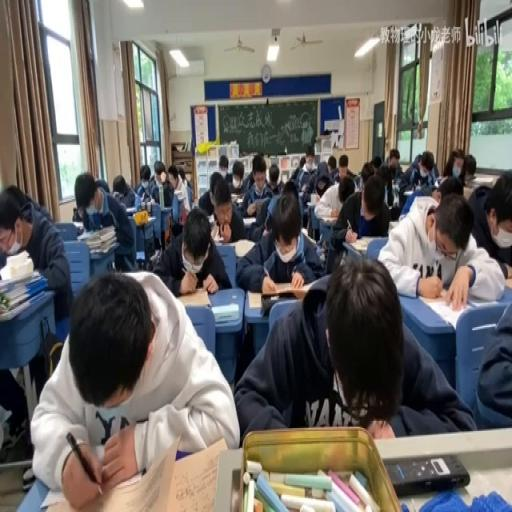calculator: (416, 290, 493, 329), (246, 283, 312, 310), (177, 286, 211, 307), (210, 300, 238, 322), (232, 236, 255, 256), (347, 234, 375, 250), (300, 228, 318, 250), (90, 244, 116, 258), (76, 230, 96, 240), (472, 175, 494, 183), (230, 193, 244, 205), (241, 214, 256, 224), (352, 174, 362, 189), (320, 215, 338, 223), (71, 220, 83, 232), (309, 192, 319, 205), (299, 182, 309, 195), (125, 205, 136, 213), (506, 276, 512, 290), (404, 186, 414, 194)
paper: (32, 268, 237, 506), (235, 254, 473, 441), (378, 189, 504, 312), (0, 185, 72, 345), (234, 188, 320, 290), (326, 169, 390, 270), (473, 284, 512, 426), (197, 171, 248, 243), (396, 148, 435, 212), (154, 161, 184, 240), (242, 155, 270, 195), (5, 183, 31, 219), (432, 173, 464, 202), (110, 170, 134, 208), (296, 151, 318, 192), (374, 164, 394, 206), (134, 164, 155, 202), (442, 146, 466, 178), (331, 152, 353, 184), (224, 155, 242, 189), (463, 154, 477, 184), (338, 176, 354, 202), (281, 179, 300, 198), (267, 162, 280, 189), (360, 160, 374, 184), (176, 165, 189, 186), (94, 176, 110, 192), (184, 181, 193, 209), (315, 242, 326, 263), (392, 180, 400, 208), (168, 170, 178, 188), (218, 155, 228, 172), (372, 155, 382, 171), (389, 150, 399, 164), (72, 206, 82, 220), (418, 184, 432, 194), (298, 156, 304, 170), (416, 158, 422, 171), (328, 165, 335, 173)
person: (384, 452, 468, 494), (142, 199, 152, 212)
